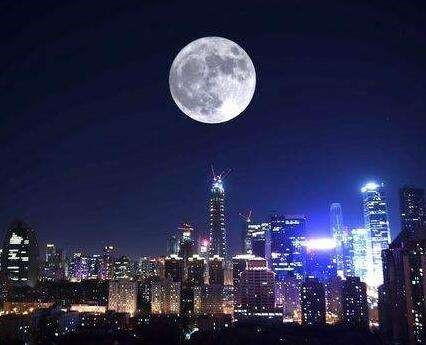moon: (168, 35, 256, 125)
